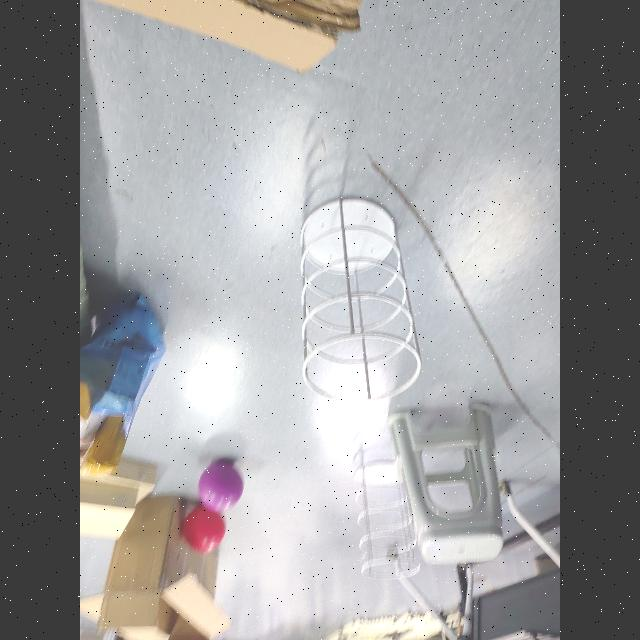S: (297, 194, 425, 406)
